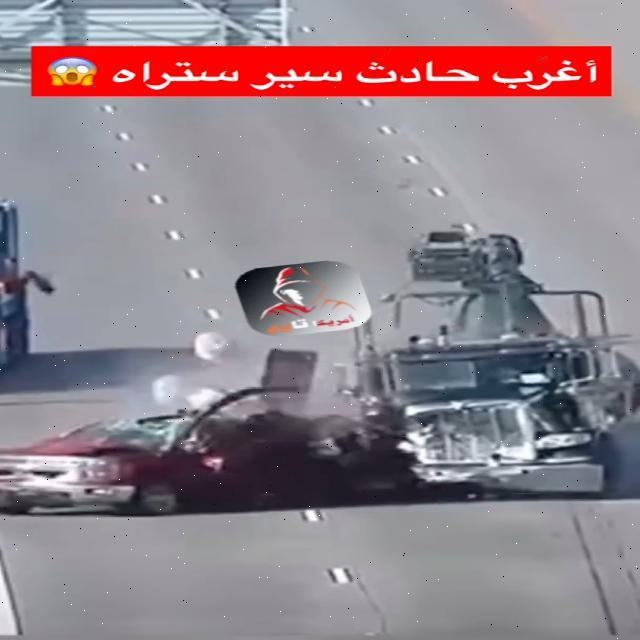accident: (0, 243, 634, 517)
